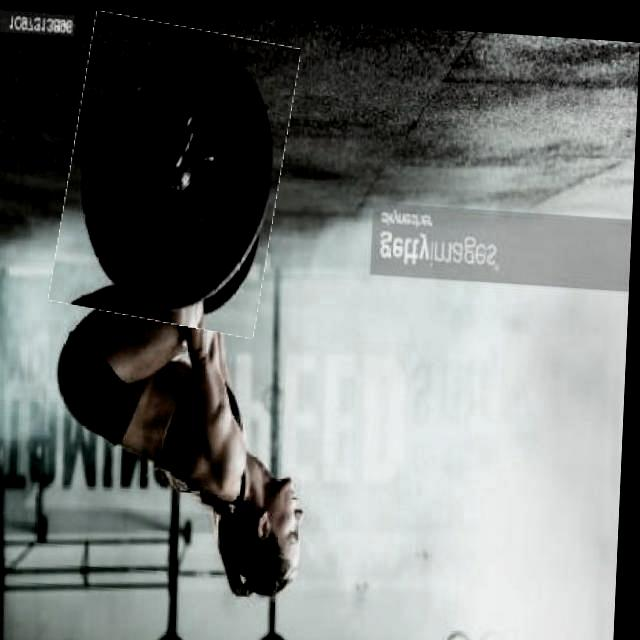barbell: (59, 13, 293, 332)
